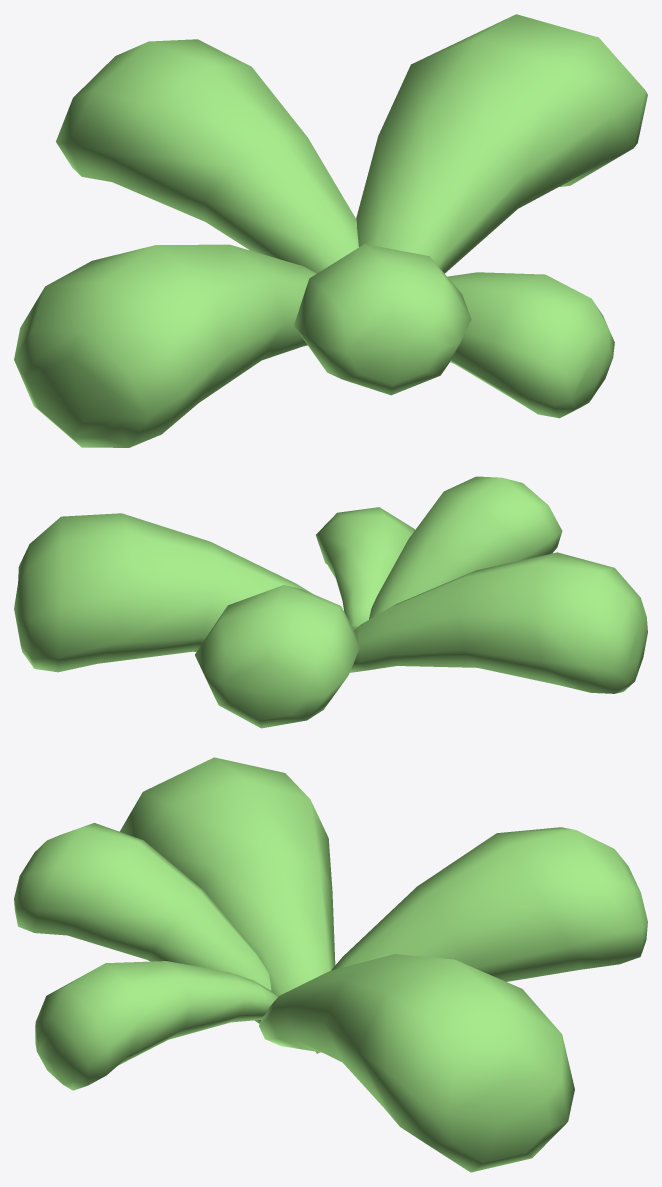
The model's file is V1.Grass01.fbx.
3 renders of one model, top to bottom at view 1: azimuth 30°, elevation 25°; view 2: azimuth 150°, elevation 25°; view 3: azimuth 270°, elevation 25°, orthographic. The views are drawn at different scales.
Parts seen in each view (by area): view 1: Cube.003; view 2: Cube.003; view 3: Cube.003.
Part boxes in pixels (bbox=[...]): Cube.003: bbox=[14, 14, 647, 447]; Cube.003: bbox=[14, 476, 647, 728]; Cube.003: bbox=[14, 757, 647, 1172].
Size of the model in its own units: 101 by 27.99 by 84.54.
